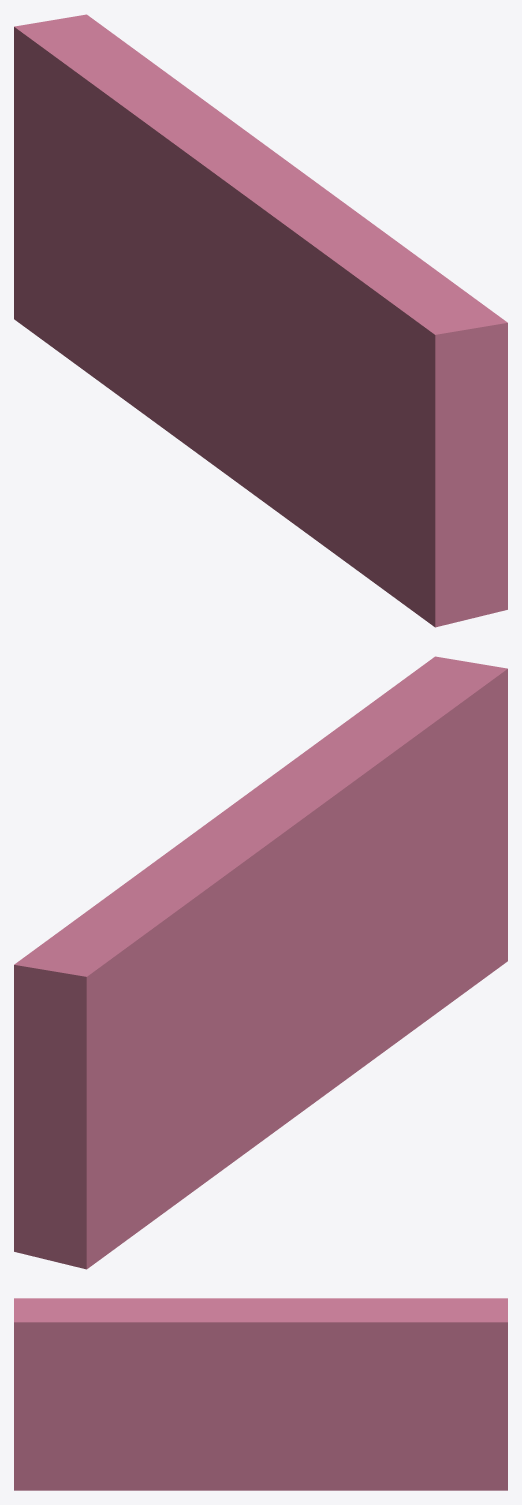
3 views of the same model, one above another, from view 1: azimuth 30°, elevation 25°; view 2: azimuth 150°, elevation 25°; view 3: azimuth 270°, elevation 25° (orthographic). The views are drawn at different scales.
Parts seen in each view (by area): view 1: geometry_24; view 2: geometry_24; view 3: geometry_24.
Part boxes in pixels (x1,y1,x2,y2): geometry_24: [14, 14, 507, 627]; geometry_24: [14, 656, 507, 1269]; geometry_24: [14, 1298, 507, 1490].
Bounding box in the file's own units: 0.00399 × 0.0153 × 0.04.
